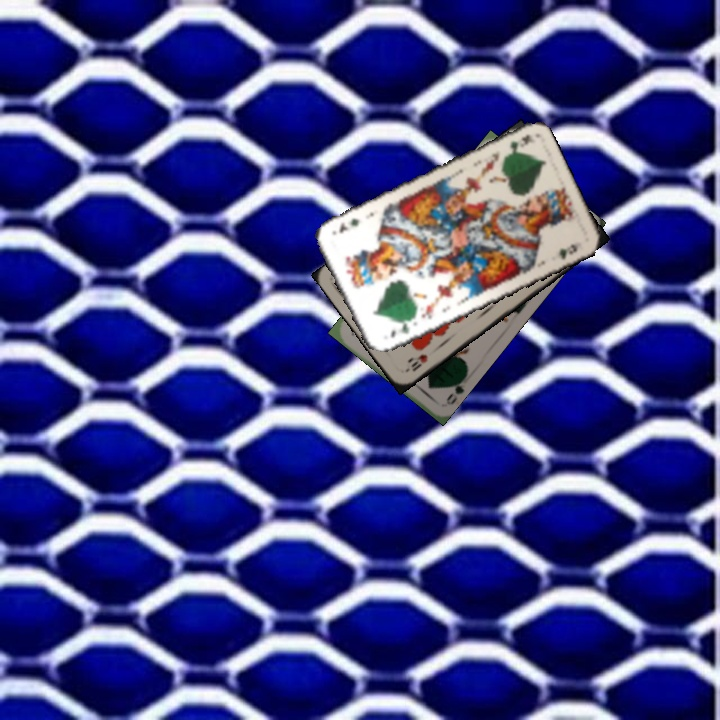GK: (506, 130, 536, 154), (386, 319, 413, 340)
GO: (442, 372, 469, 408)
H10: (407, 350, 431, 374)
